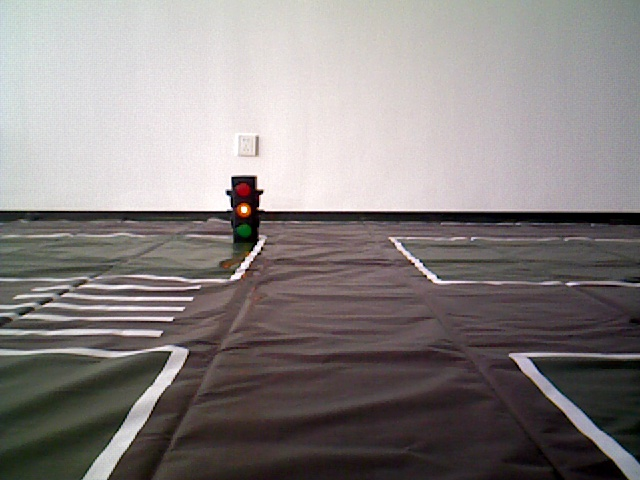yellow: (228, 173, 261, 245)
